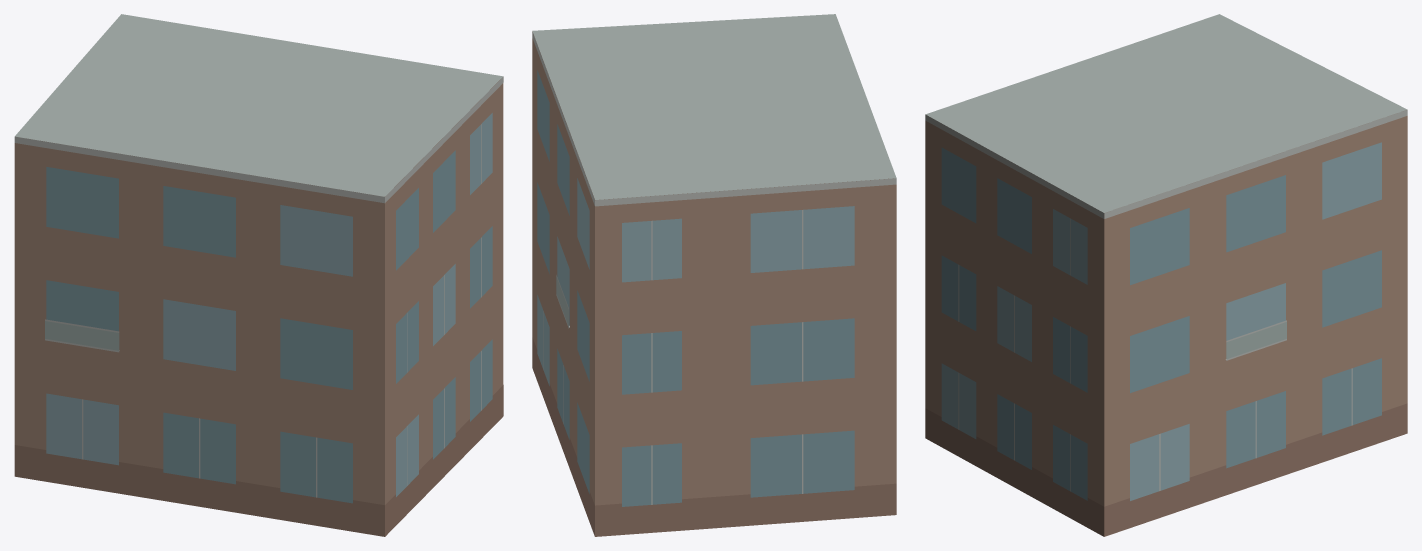
Rendered from survey-upis-32473515.glb.
The picture shows the model from 3 angles, left to right: view 1: azimuth 30°, elevation 25°; view 2: azimuth 150°, elevation 25°; view 3: azimuth 270°, elevation 25°; orthographic projection. The views are drawn at different scales.
Parts seen in each view (by area): view 1: survey-upis-32473515.tmp; view 2: survey-upis-32473515.tmp; view 3: survey-upis-32473515.tmp.
Boxes of the visible parts, box(x1,y1,x2,y2) form: survey-upis-32473515.tmp: box(14, 14, 503, 536); survey-upis-32473515.tmp: box(532, 14, 896, 536); survey-upis-32473515.tmp: box(925, 14, 1407, 536).
Bounding box in the file's own units: 17.01 × 12.9 × 17.42.
